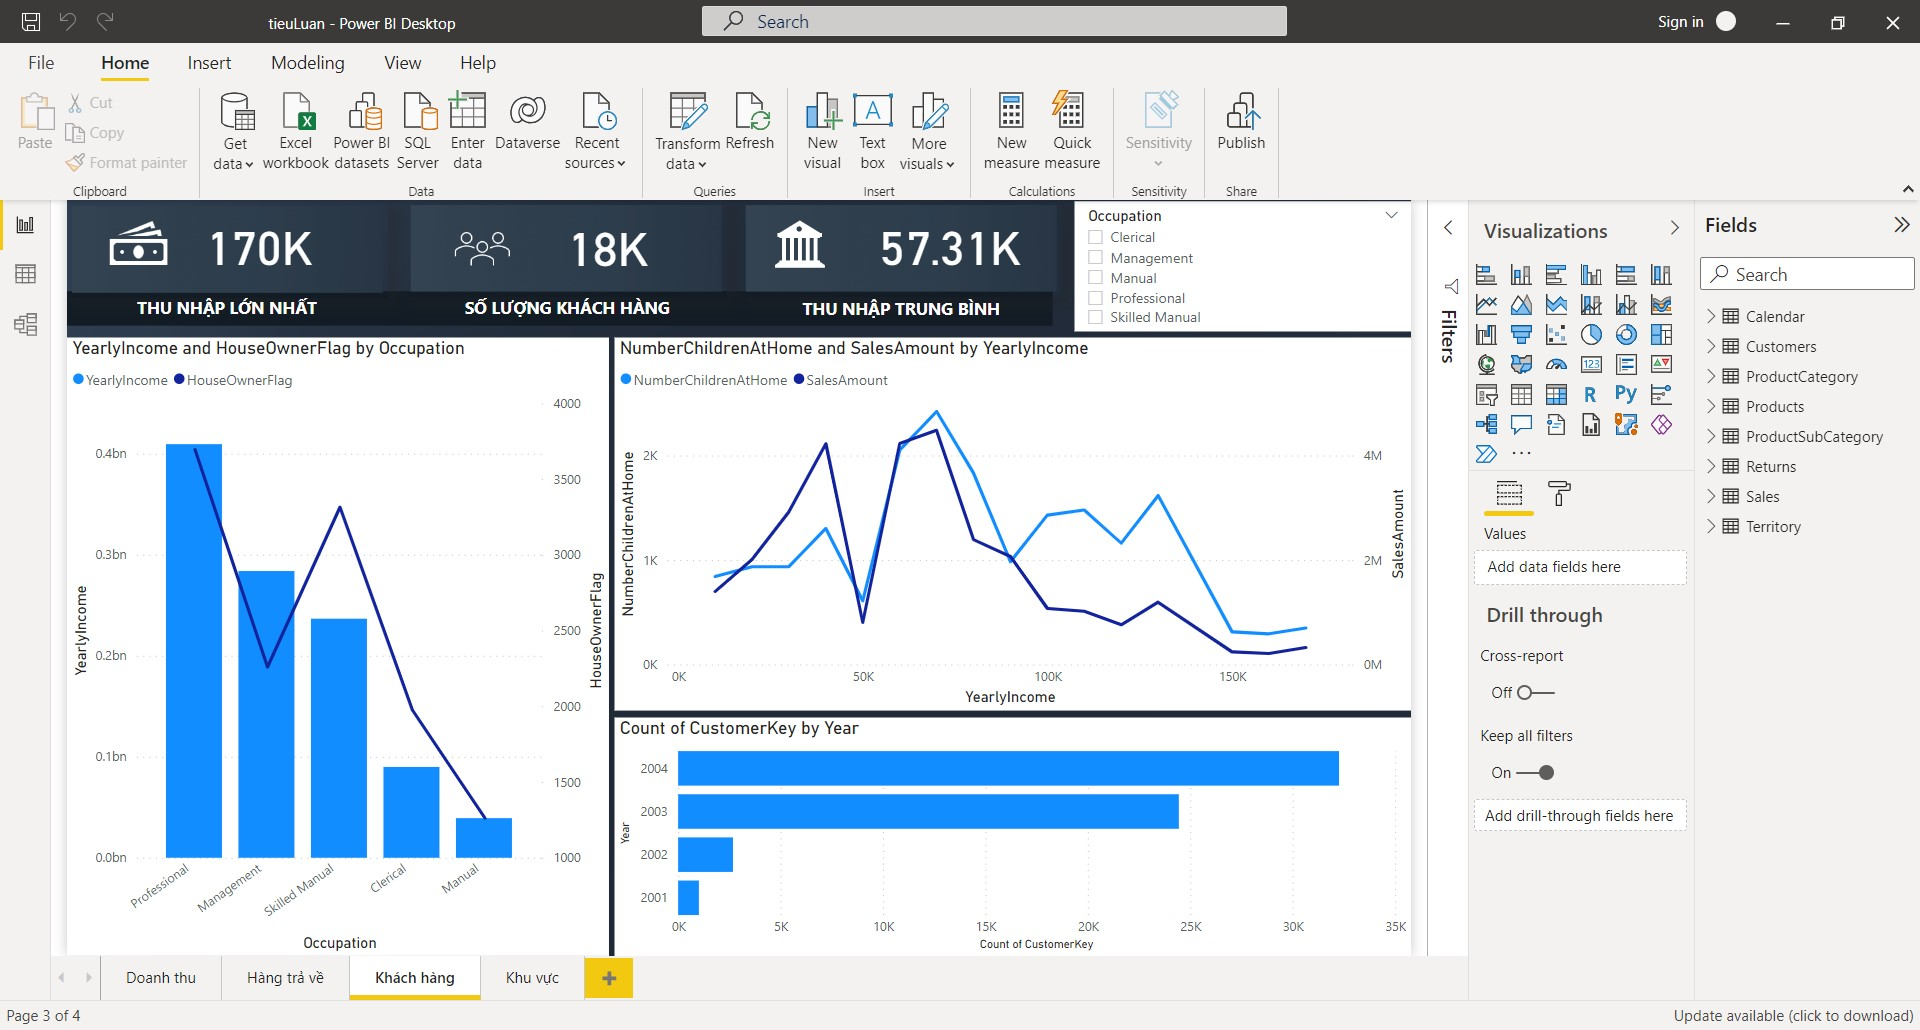

The dashboard page shown, as its layout file describes it:
{"tool":"powerbi","page":{"name":"Khách hàng","canvas":[1280,720],"ordinal":2},"visuals":[{"type":"shape","box":[0,86.7,938.7,33],"z":0},{"type":"image","box":[322.1,0,305.5,92.2],"z":1000},{"type":"image","box":[641.4,0,305.5,92.2],"z":2000},{"type":"image","box":[0,1.4,305.5,92.2],"z":3000},{"type":"card","fields":{"Values":["Customers.MaxIncome"]},"box":[42.7,2.7,280.8,78.5],"z":4000},{"type":"card","fields":{"Values":["Customers.Thu Nhập trung bình"]},"box":[699.2,8.9,280.8,66.1],"z":5000},{"type":"lineClusteredColumnComboChart","fields":{"Category":["Customers.Occupation"],"Y":["Sum(Customers.YearlyIncome)"],"Y2":["Sum(Customers.HouseOwnerFlag)"]},"box":[0,130.8,516.1,589.1],"z":6000},{"type":"lineChart","fields":{"Category":["Customers.YearlyIncome"],"Y2":["Sum(Sales.SalesAmount)"],"Y":["Sum(Customers.NumberChildrenAtHome)"]},"box":[521.6,130.8,758.4,355.1],"z":7000},{"type":"card","fields":{"Values":["Customers.Số lượng khách hàng"]},"box":[407.4,8.3,216.1,67.4],"z":8000},{"type":"clusteredBarChart","fields":{"Category":["Sales.OrderDate.Variation.Date Hierarchy.Year","Sales.OrderDate.Variation.Date Hierarchy.Quarter","Sales.OrderDate.Variation.Date Hierarchy.Month","Sales.OrderDate.Variation.Date Hierarchy.Day"],"Y":["CountNonNull(Sales.CustomerKey)"]},"box":[521.6,492.7,758.4,227.1],"z":9000},{"type":"image","box":[33,6.8,70.2,70.2],"z":10000},{"type":"image","box":[663.4,6.8,70.2,70.2],"z":11000},{"type":"image","box":[360.6,12.4,70.2,70.2],"z":12000},{"type":"textbox","box":[56.4,85.3,192.7,33],"z":13001},{"type":"textbox","box":[360.6,85.3,231.2,34.4],"z":13002},{"type":"textbox","box":[685.4,86.7,217.5,34.4],"z":13003},{"type":"slicer","fields":{"Values":["Customers.Occupation"]},"box":[959.3,1.4,320.7,123.9],"z":13004}]}

Visuals, with their boxes on the page's 1280x720 design canvas (x1, y1, x2, y2). These are canvas units, not pixel positions in the 1920x1030 screenshot, which may show the page scaled, cropped or inside an application window:
shape: rect(0, 87, 939, 120)
image: rect(322, 0, 628, 92)
image: rect(641, 0, 947, 92)
image: rect(0, 1, 306, 94)
card - Customers.MaxIncome: rect(43, 3, 324, 81)
card - Customers.Thu Nhập trung bình: rect(699, 9, 980, 75)
lineClusteredColumnComboChart - Customers.Occupation x Sum(Customers.YearlyIncome): rect(0, 131, 516, 720)
lineChart - Customers.YearlyIncome x Sum(Sales.SalesAmount): rect(522, 131, 1280, 486)
card - Customers.Số lượng khách hàng: rect(407, 8, 624, 76)
clusteredBarChart - Sales.OrderDate.Variation.Date Hierarchy.Year x Sales.OrderDate.Variation.Date Hierarchy.Quarter: rect(522, 493, 1280, 720)
image: rect(33, 7, 103, 77)
image: rect(663, 7, 734, 77)
image: rect(361, 12, 431, 83)
textbox: rect(56, 85, 249, 118)
textbox: rect(361, 85, 592, 120)
textbox: rect(685, 87, 903, 121)
slicer - Customers.Occupation: rect(959, 1, 1280, 125)
